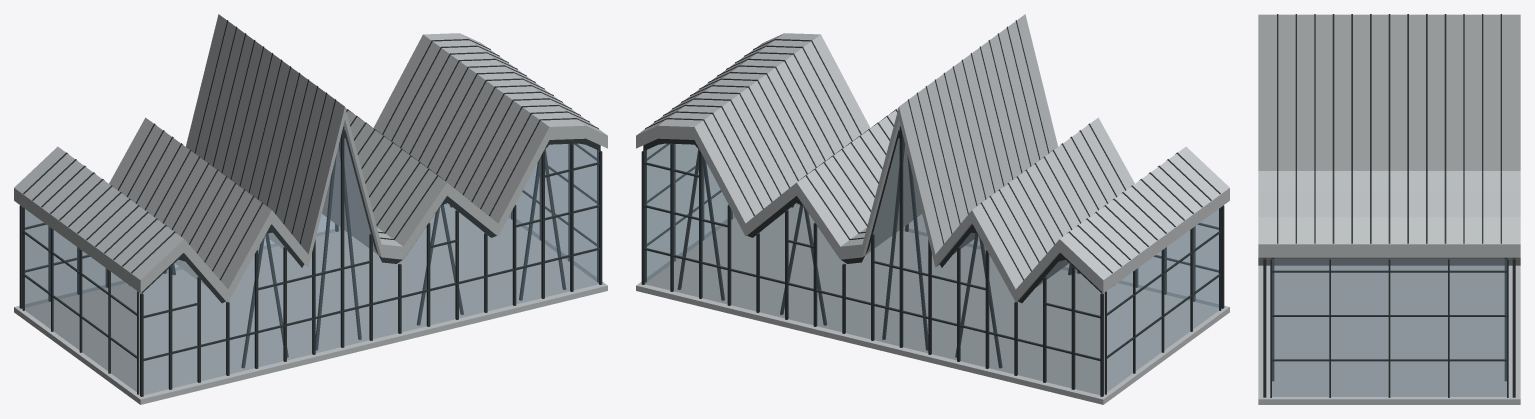
File: riverside.lod0.glb
3 views of the same model, side by side, from view 1: azimuth 30°, elevation 25°; view 2: azimuth 150°, elevation 25°; view 3: azimuth 270°, elevation 25° (orthographic). The views are drawn at different scales.
Parts seen in each view (by area): view 1: Mass, Glass, Trim; view 2: Mass, Glass, Trim; view 3: Mass, Glass, Trim.
Boxes of the visible parts, x1,y1,x2,y2 form: Mass: (14, 14, 607, 404); Glass: (25, 138, 598, 394); Trim: (19, 20, 602, 396); Mass: (636, 14, 1229, 404); Glass: (645, 138, 1218, 394); Trim: (641, 20, 1224, 396); Mass: (1258, 14, 1520, 404); Glass: (1272, 259, 1506, 396); Trim: (1263, 14, 1515, 397).
Size of the model in its own units: 32 by 16.3 by 15.
